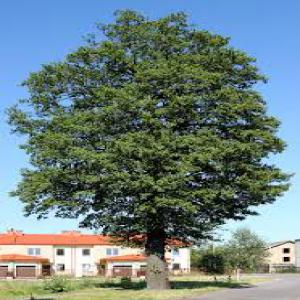Tree: (10, 7, 287, 290)
